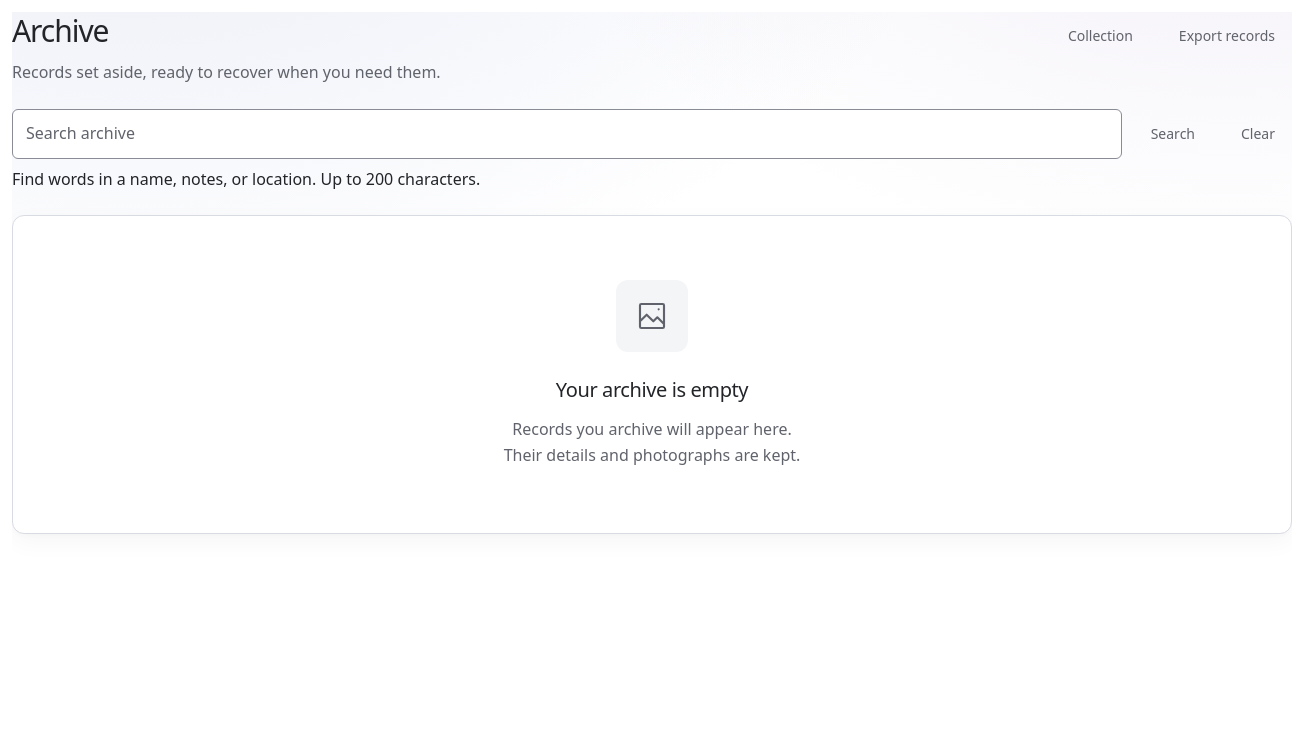
Test: distinguishes an empty archive, no matches, loading failure and a successful retry
This screenshot has width=1304, height=732.
Expected: the heading "Your archive is empty" is shown, [556,376,748,403]
Type "missing" into the search field at (567, 134), box [12,109,1122,159]
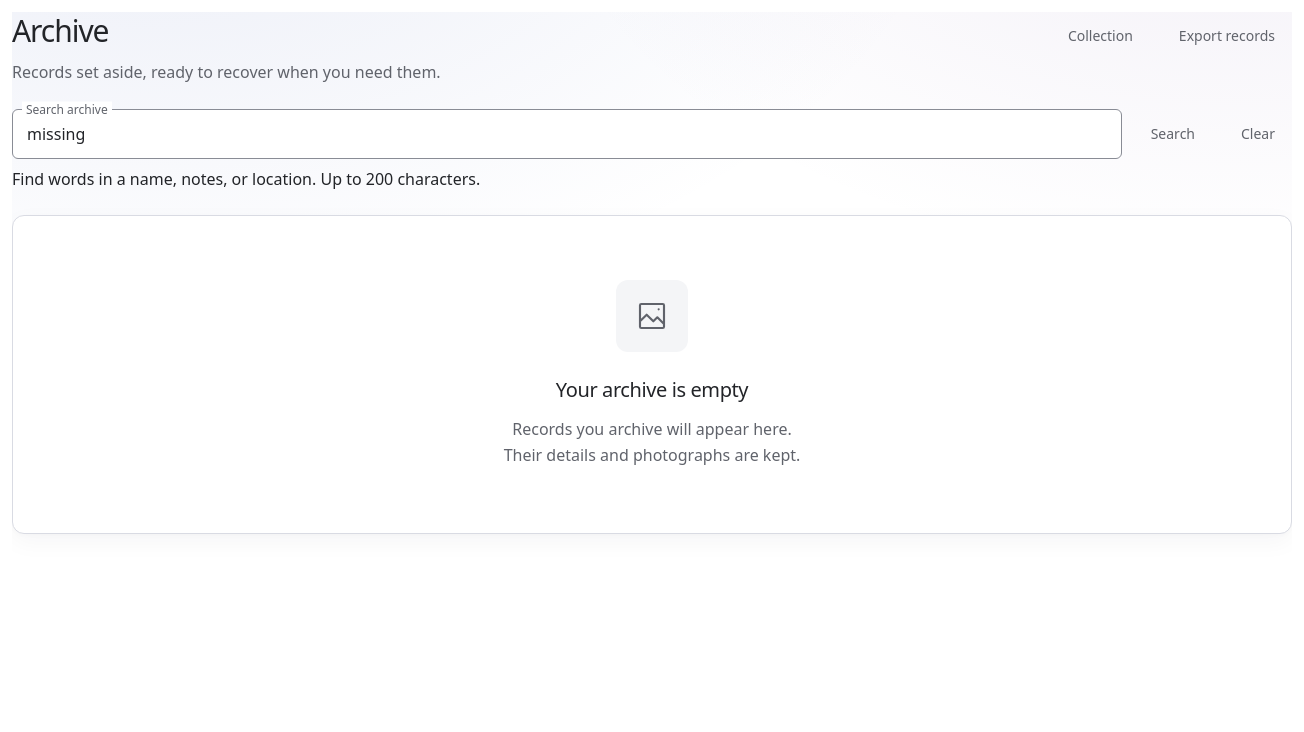
Click the button "Search" at (1173, 134), box [1134,109,1212,159]
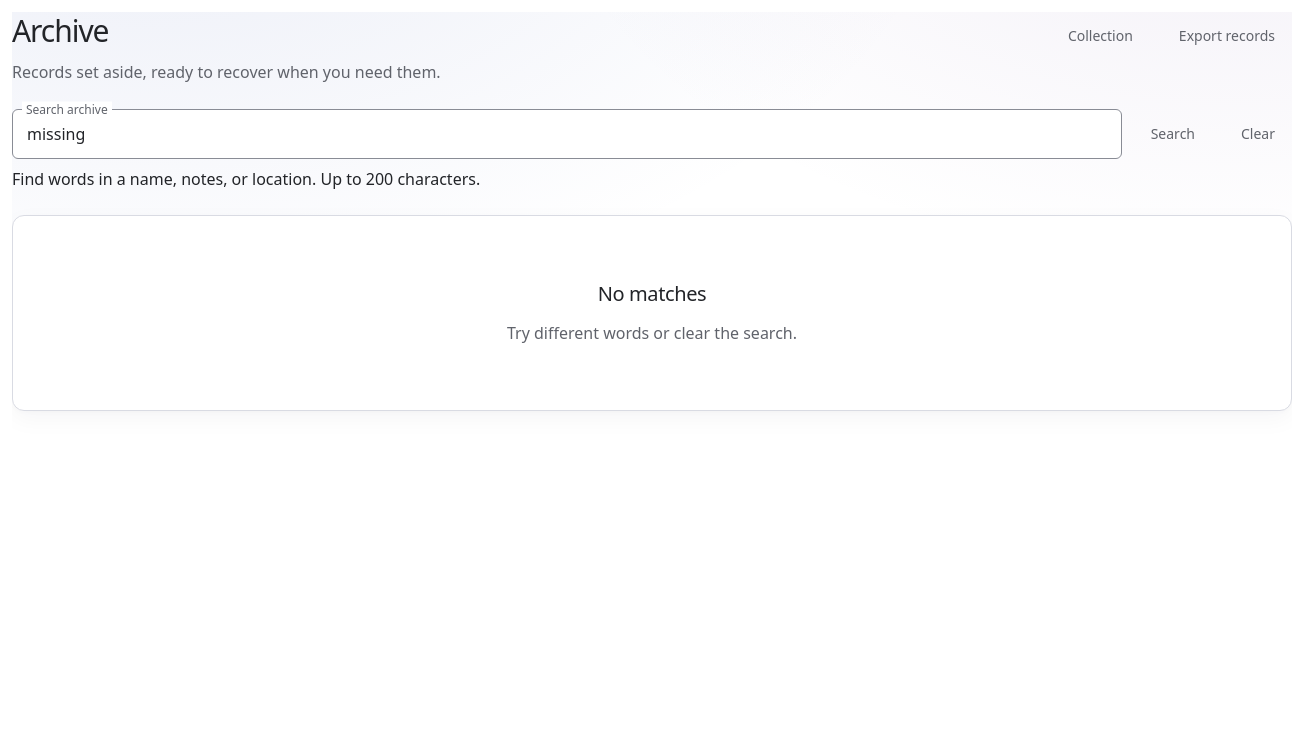
Expected: the heading "No matches" is shown, [598,280,706,307]
Click the button "Clear" at (1258, 134), box [1224,109,1292,159]
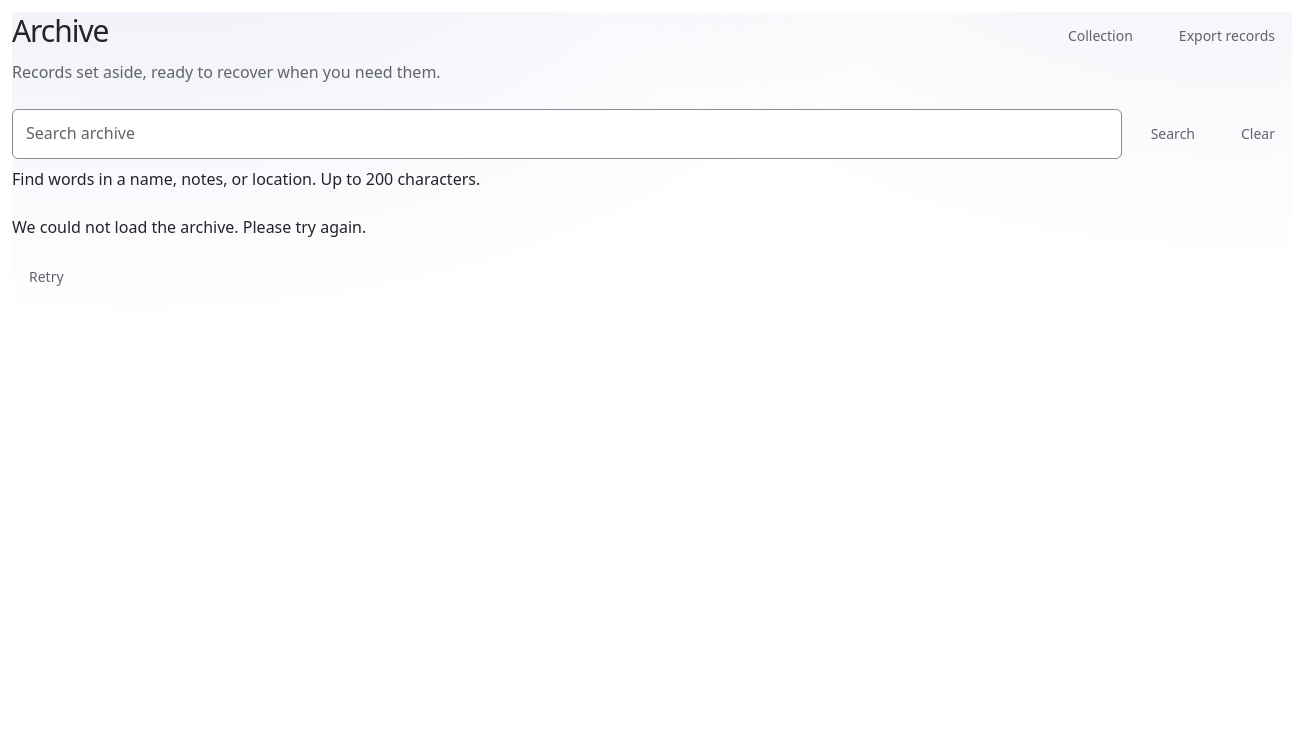
Expected: the message shows "We could not load the archive", [12,216,366,238]
Click the button "Retry" at (46, 277), box [12,255,81,299]
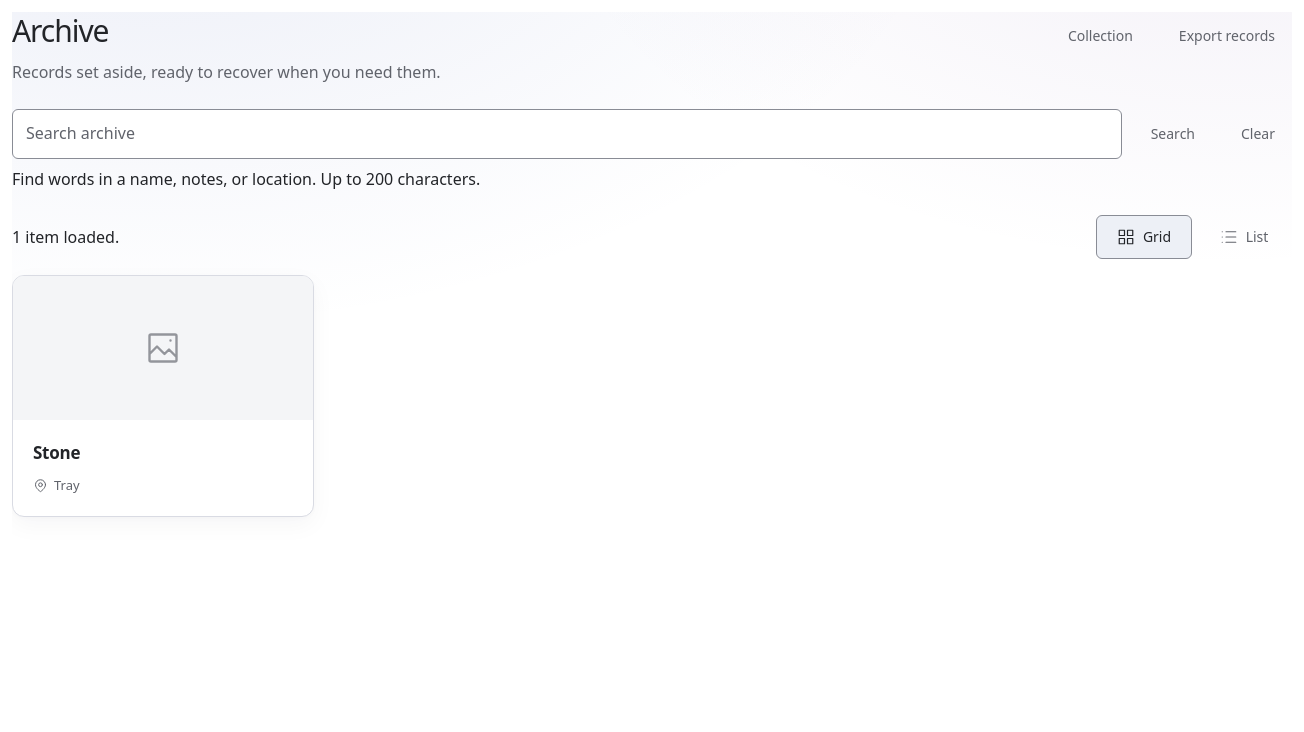
Expected: the link "Stone Tray" is shown, [12,275,314,517]
